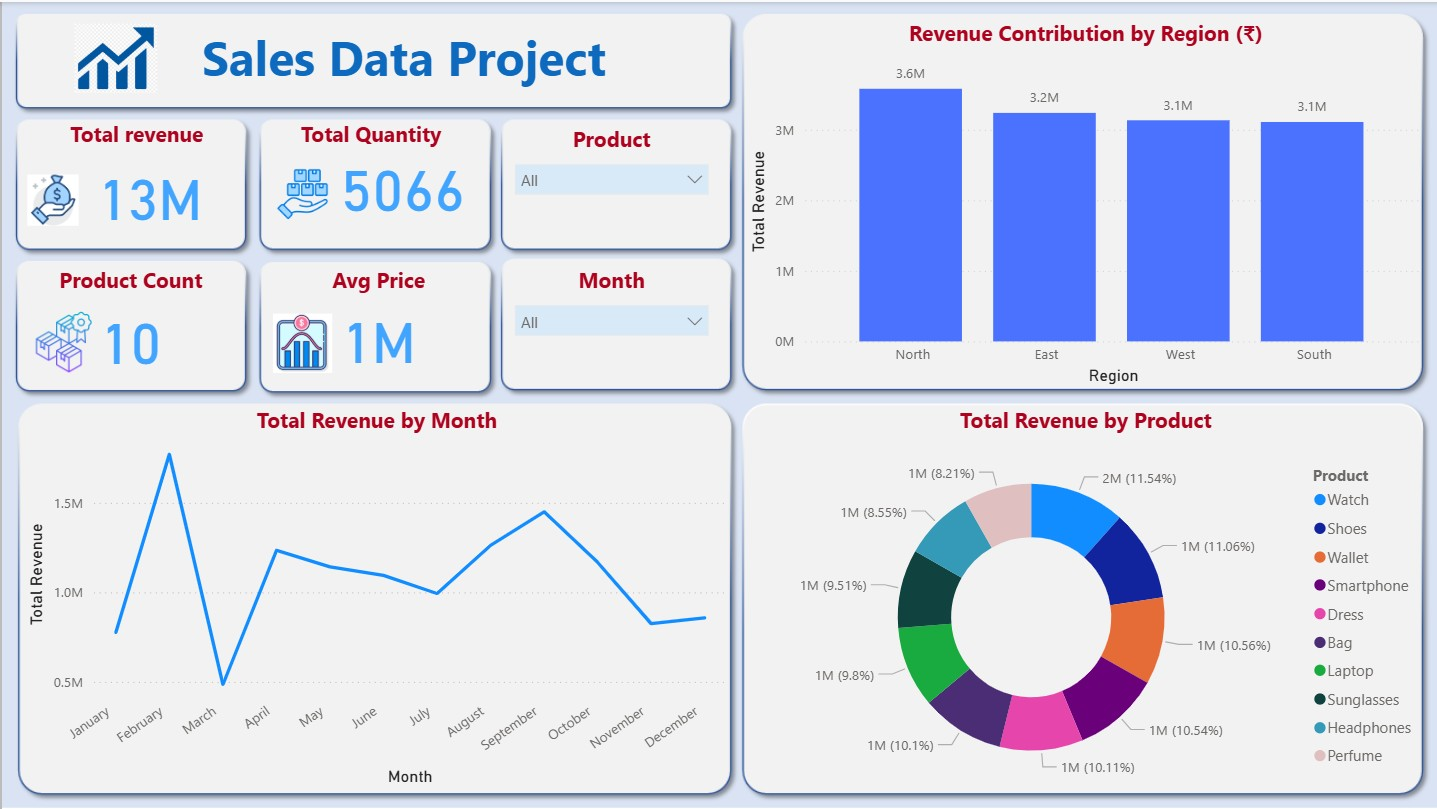

The page's visual inventory and layout, read from the dashboard file:
{"tool":"powerbi","page":{"name":"sales_data_project","canvas":[1280,720],"ordinal":0},"visuals":[{"type":"card","title":"Total Revenue","fields":{"Values":["sales_data_project.Total Revenue"]},"box":[62.7,136.3,138.7,68.8],"z":0},{"type":"card","title":"Total Quantity","fields":{"Values":["sales_data_project.Total Qty"]},"box":[284.7,118.2,142.4,88.1],"z":1000},{"type":"card","title":"Product Count","fields":{"Values":["sales_data_project.Product Count"]},"box":[27.7,235.3,173.7,102.5],"z":2000},{"type":"clusteredColumnChart","title":"Revenue Contribution by Region (₹)","fields":{"Category":["sales_data_project.Region"],"Y":["sales_data_project.Total Revenue"]},"box":[661.1,14.5,608,331.8],"z":3000},{"type":"donutChart","fields":{"Category":["sales_data_project.Product"],"Y":["sales_data_project.Total Revenue"]},"box":[661.1,359.5,608,352.3],"z":4000},{"type":"lineChart","fields":{"Y":["sales_data_project.Total Revenue"],"Category":["sales_data_project.Data.Variation.Date Hierarchy.Month"]},"box":[18.1,359.5,632.2,343.8],"z":5000},{"type":"textbox","box":[18.1,14.5,621.3,71.2],"z":6000},{"type":"card","title":"Avg Price","fields":{"Values":["Sum(sales_data_project.Unit_Price)"]},"box":[243.7,235.3,183.4,100.1],"z":7000},{"type":"slicer","title":"Month","fields":{"Values":["sales_data_project.Month"]},"box":[446.4,235.3,193,111],"z":8000},{"type":"slicer","title":"Product","fields":{"Values":["sales_data_project.Product"]},"box":[446.4,108.6,193,97.7],"z":9000},{"type":"image","box":[27.7,14.5,147.2,71.2],"z":10000},{"type":"image","box":[18.1,148.4,55.5,56.7],"z":11000},{"type":"textbox","box":[27.7,100.1,184.6,36.2],"z":12000},{"type":"image","box":[230.4,143.6,74.8,55.5],"z":13000},{"type":"textbox","box":[230.4,100.1,196.6,39.8],"z":14000},{"type":"image","box":[230.3,269.9,49.7,63.2],"z":15000},{"type":"image","box":[18.1,270.2,74.8,65.1],"z":16000}]}

Visuals, with their boxes in screenshot pixels (x1, y1, x2, y2), scaled from the page's 1280x720 canvas onto the 1437x809 screenshot:
"Total Revenue" card: [70, 153, 226, 230]
"Total Quantity" card: [320, 133, 479, 232]
"Product Count" card: [31, 264, 226, 380]
"Revenue Contribution by Region (₹)" clusteredColumnChart: [742, 16, 1425, 389]
donutChart - sales_data_project.Product x sales_data_project.Total Revenue: [742, 404, 1425, 800]
lineChart - sales_data_project.Total Revenue x sales_data_project.Data.Variation.Date Hierarchy.Month: [20, 404, 730, 790]
textbox: [20, 16, 718, 96]
"Avg Price" card: [274, 264, 479, 377]
"Month" slicer: [501, 264, 718, 389]
"Product" slicer: [501, 122, 718, 232]
image: [31, 16, 196, 96]
image: [20, 167, 83, 230]
textbox: [31, 112, 238, 153]
image: [259, 161, 343, 224]
textbox: [259, 112, 479, 157]
image: [259, 303, 314, 374]
image: [20, 304, 104, 377]
